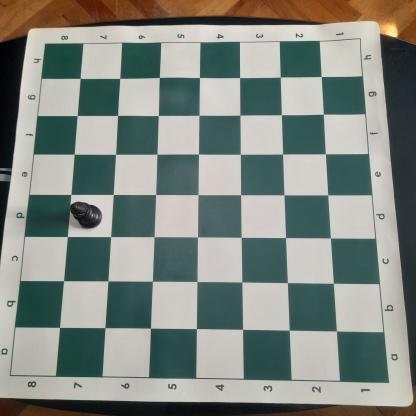black-bishop: (69, 199, 107, 231)
